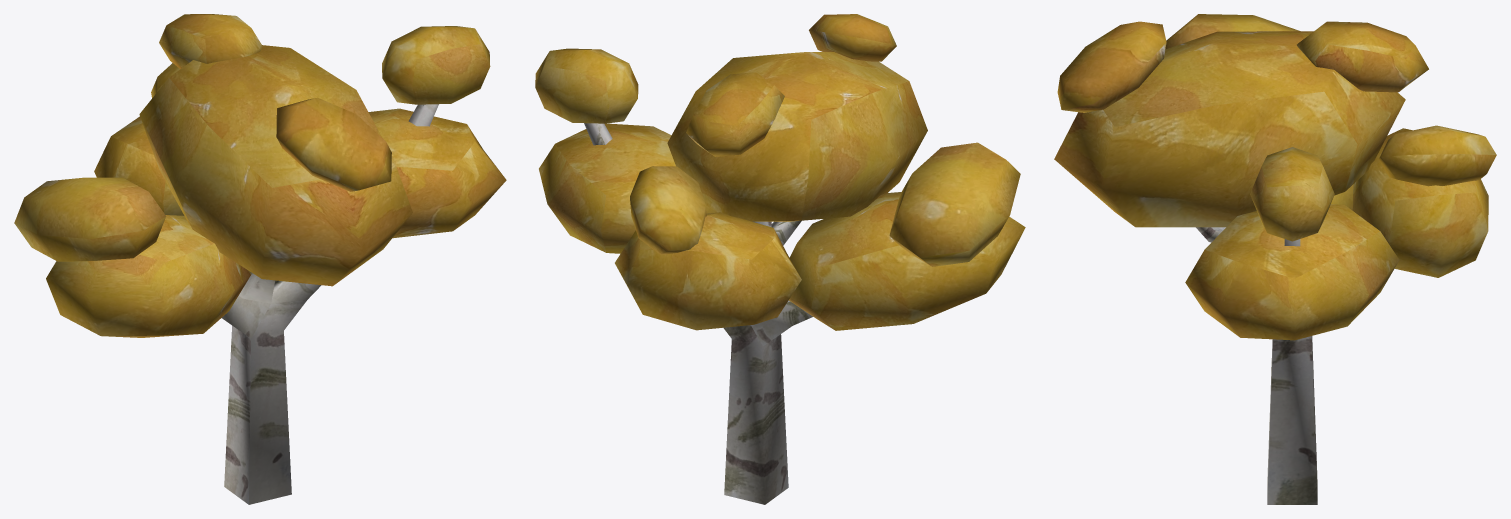
Rendered from ARBRE.glb.
3 views of the same model, side by side, from view 1: azimuth 30°, elevation 25°; view 2: azimuth 150°, elevation 25°; view 3: azimuth 270°, elevation 25° (orthographic). The views are drawn at different scales.
Visible parts, largest first — view 1: Cube.002, tronc; view 2: Cube.002, tronc; view 3: Cube.002, tronc.
Part boxes in pixels (bbox=[...]): Cube.002: bbox=[14, 14, 506, 337]; tronc: bbox=[222, 104, 438, 504]; Cube.002: bbox=[535, 14, 1025, 330]; tronc: bbox=[584, 123, 812, 504]; Cube.002: bbox=[1054, 14, 1496, 340]; tronc: bbox=[1196, 227, 1317, 504].
Bounding box in the file's own units: 7.05 × 6.43 × 5.61.
1 material, 1 textured.
